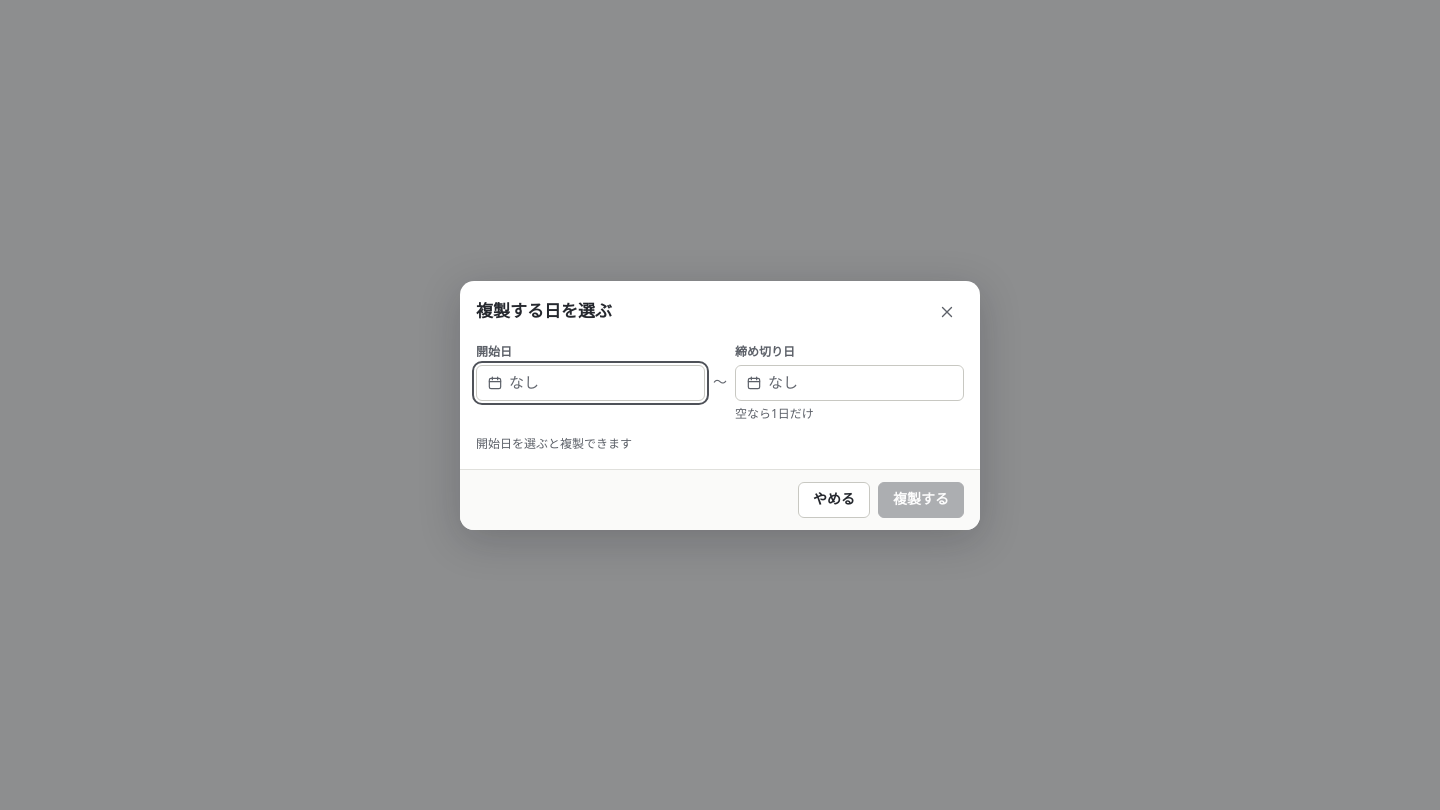
Test case: 複製する日を選ぶ（12.7） › 題は「複製する日を選ぶ」。日付の欄は初めは空で、calendar 生まれは開始日を選ぶまで［複製する］を押せない（ITEMS-253・254）
This screenshot has width=1440, height=810.
Expected: the heading reads "複製する日を選ぶ", left=476, top=299, right=612, bottom=322
Expected: the button with test id "dup-due" reads "なし", left=735, top=364, right=964, bottom=400
Click the button with test id "dup-start": (590, 382) left=476, top=364, right=705, bottom=400
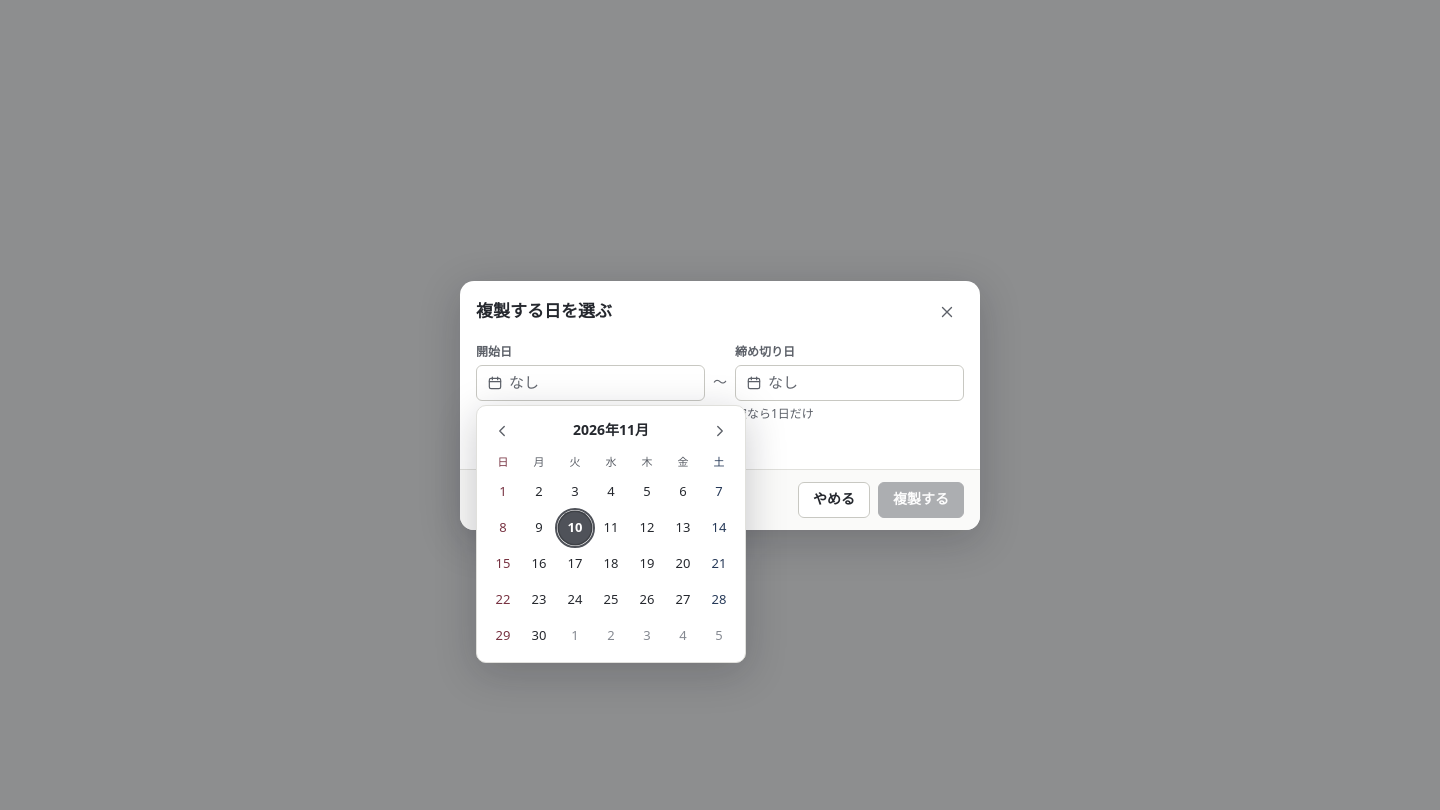
Click the button "17": (575, 564) left=559, top=548, right=591, bottom=580
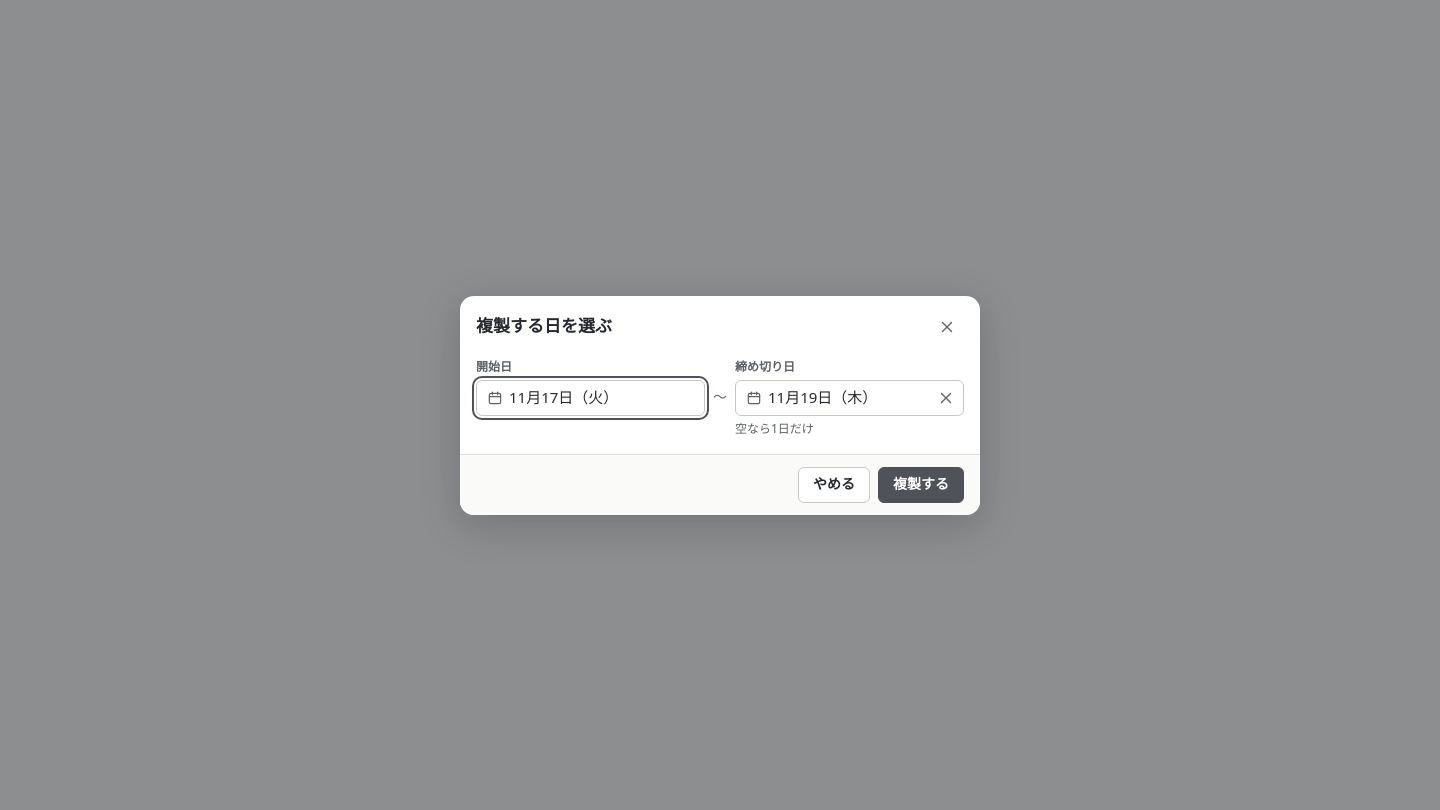
Result: the button with test id "dup-submit" is enabled at left=878, top=466, right=964, bottom=502
